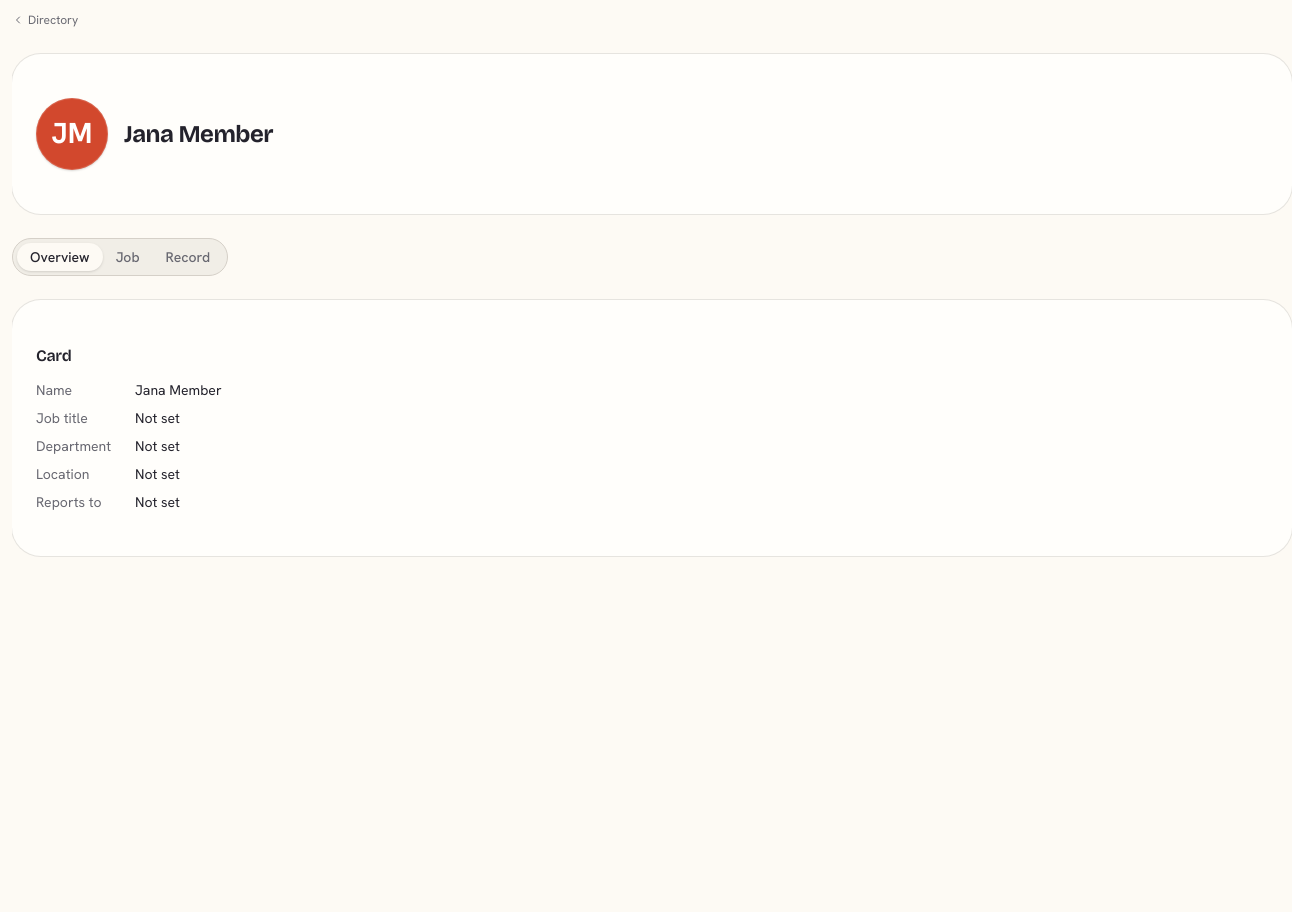
Test: ProfileScreen › shows the person their spell and their account facts on the Record tab
This screenshot has width=1292, height=912.
Click the tab "Record": (188, 257) left=153, top=243, right=223, bottom=271
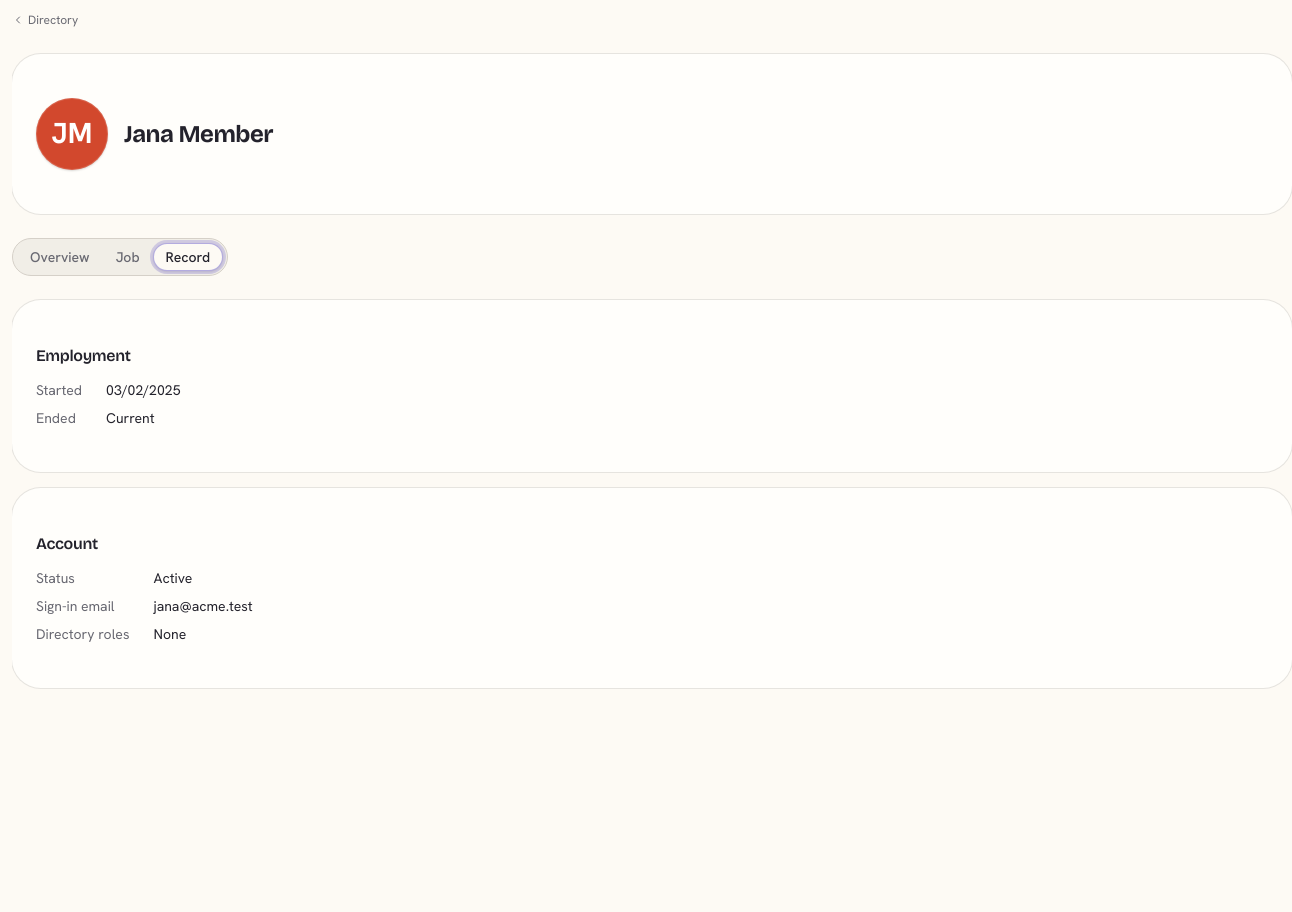
Now the text "Current" is shown, box left=106, top=409, right=155, bottom=427
Now the text "Active" is shown, box left=154, top=569, right=192, bottom=587
Now the text "jana@acme.test" is shown, box left=154, top=597, right=253, bottom=615
